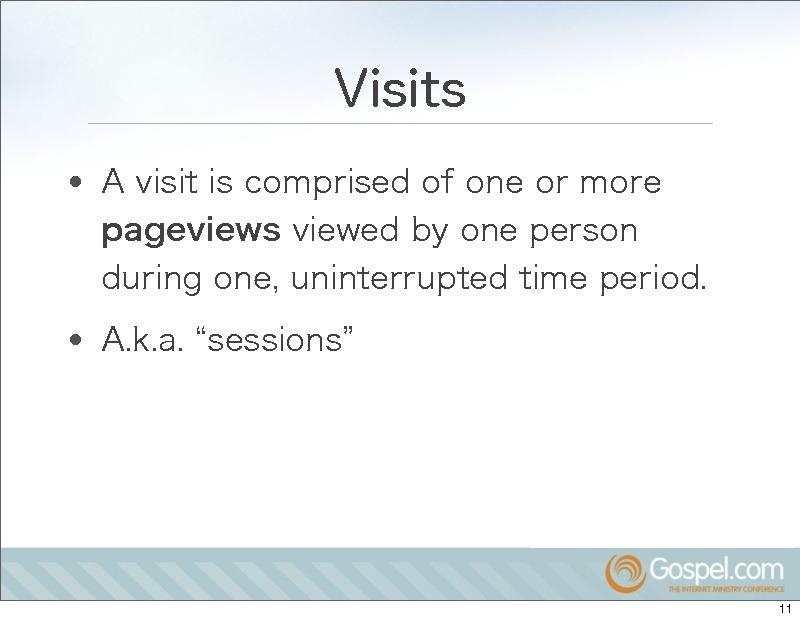paragraph: (95, 136, 756, 395)
title: (327, 46, 473, 120)
